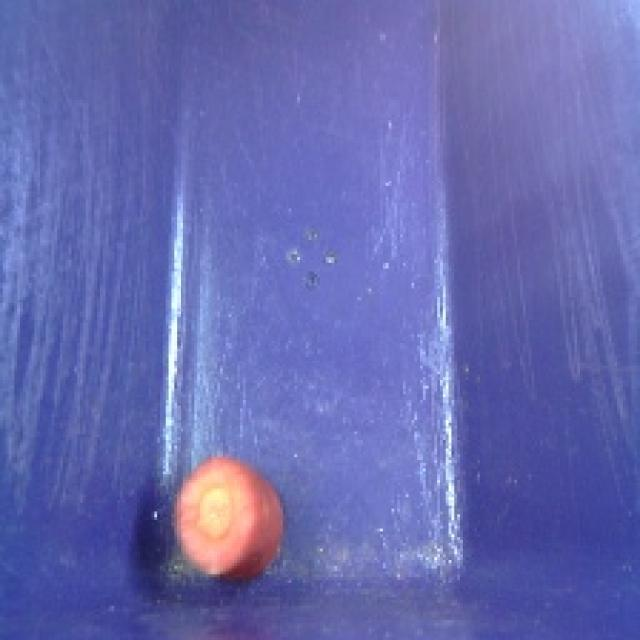carrots: (166, 448, 286, 596)
